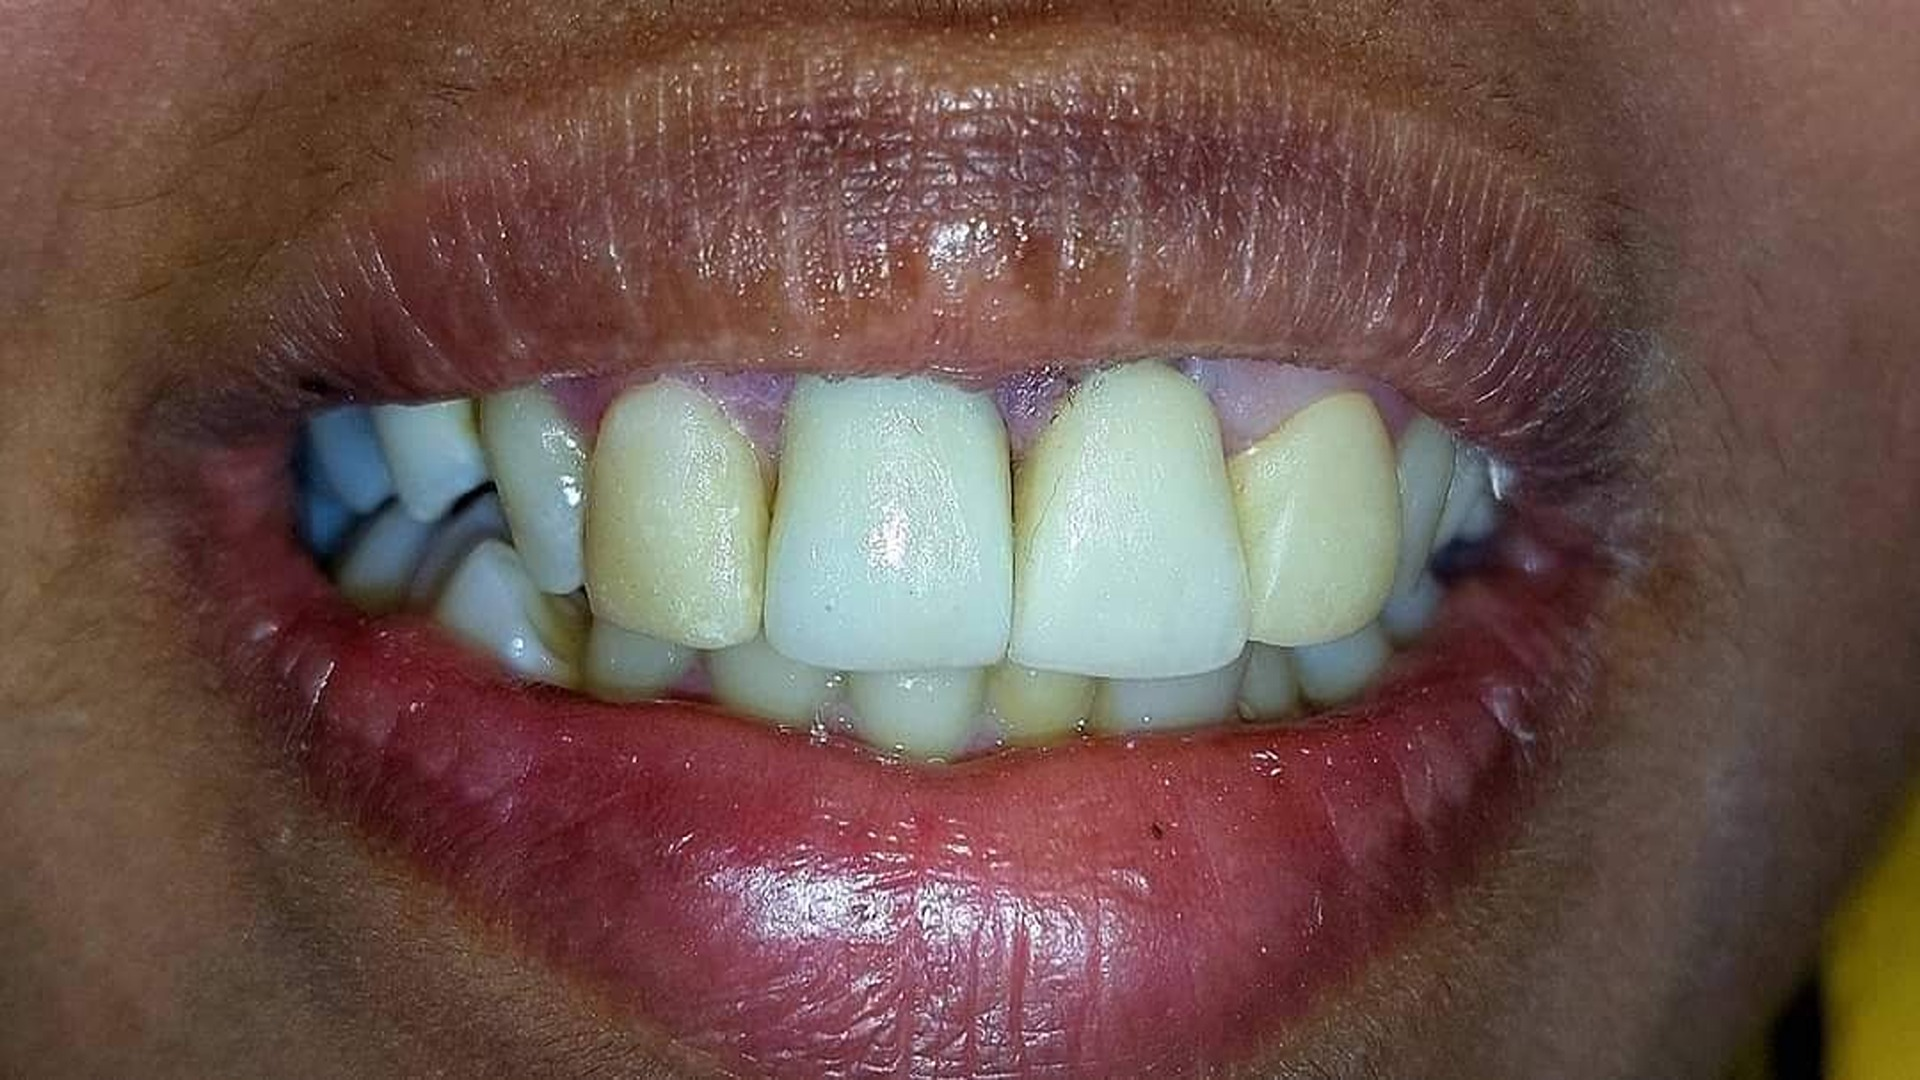tooth: (1007, 357, 1251, 679), (764, 375, 1015, 673), (582, 378, 770, 649), (1226, 392, 1400, 647), (480, 385, 587, 593), (1394, 415, 1513, 601), (436, 538, 578, 688), (371, 400, 492, 526), (705, 636, 858, 731), (1073, 661, 1241, 736), (985, 659, 1096, 748)
